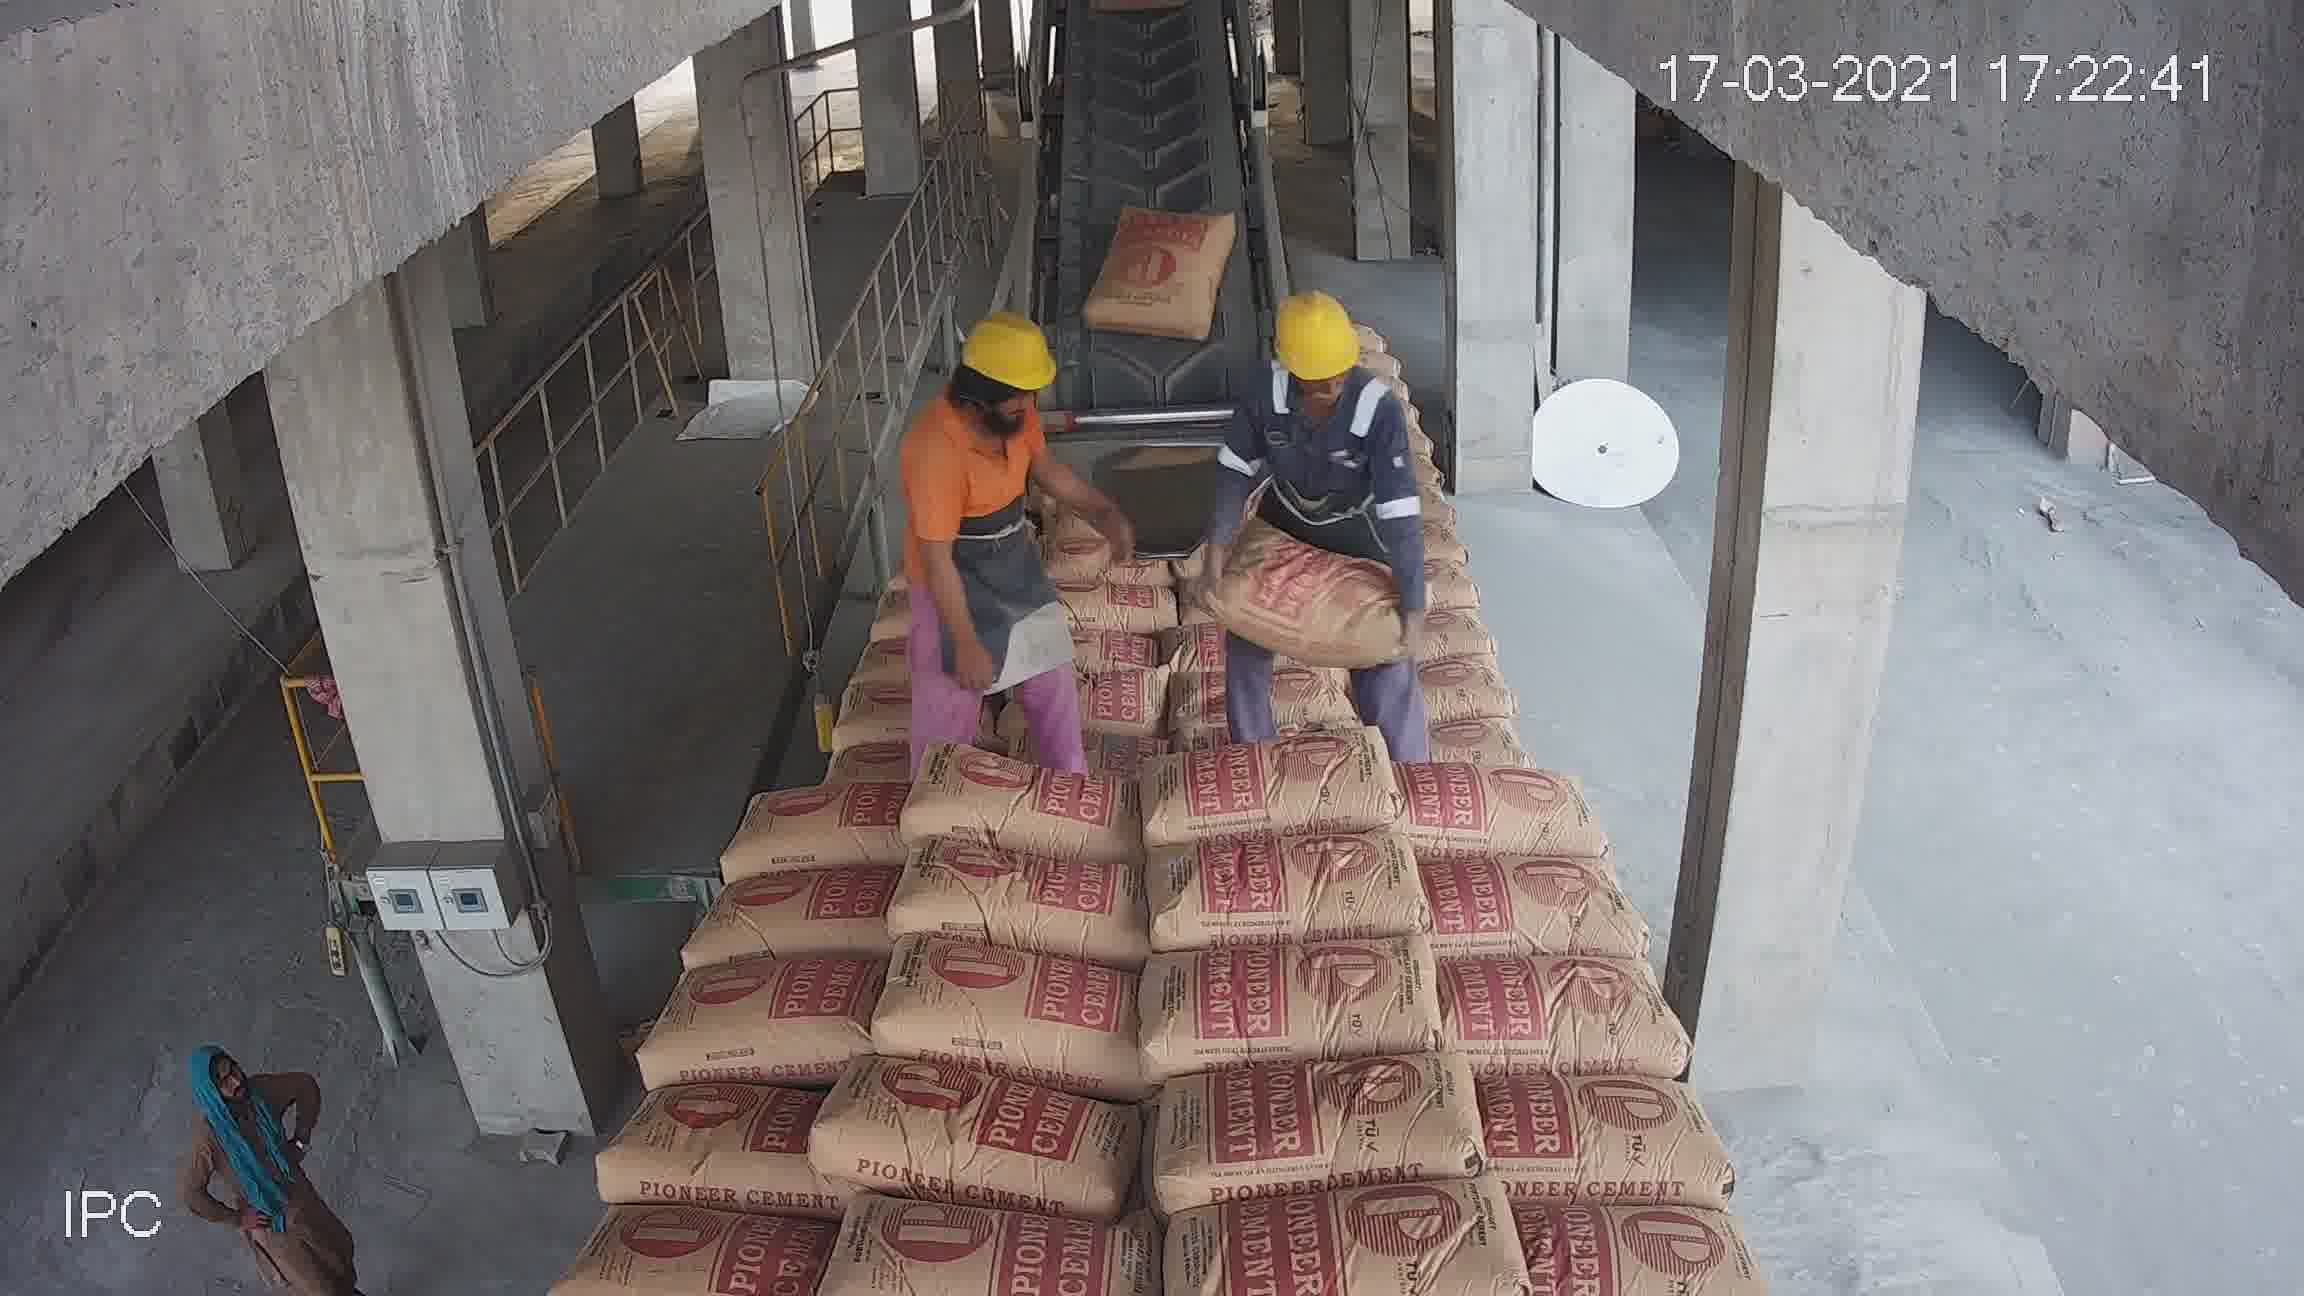bag: (1078, 233, 1249, 394), (1298, 517, 1502, 612)
bag_h: (1154, 1041, 1476, 1203), (1146, 926, 1449, 1062), (1116, 726, 1396, 872), (794, 1093, 1158, 1201), (1184, 1185, 1527, 1293), (1139, 828, 1407, 956), (597, 1071, 828, 1214), (1499, 1036, 1700, 1196), (1502, 1174, 1764, 1296), (1440, 949, 1685, 1079), (892, 957, 1144, 1082), (888, 851, 1146, 970), (655, 961, 881, 1093), (801, 1214, 1154, 1296), (1161, 639, 1388, 755), (543, 1203, 802, 1296), (905, 760, 1112, 862), (685, 866, 889, 970), (1431, 862, 1635, 964), (783, 627, 994, 718), (739, 693, 930, 793), (935, 671, 1139, 764), (1369, 676, 1552, 771), (1407, 764, 1590, 858), (745, 772, 908, 877), (1048, 521, 1173, 589), (1150, 517, 1301, 568), (1027, 590, 1184, 638), (1152, 573, 1260, 622), (1180, 484, 1299, 529)
belt: (995, 25, 1252, 443)
